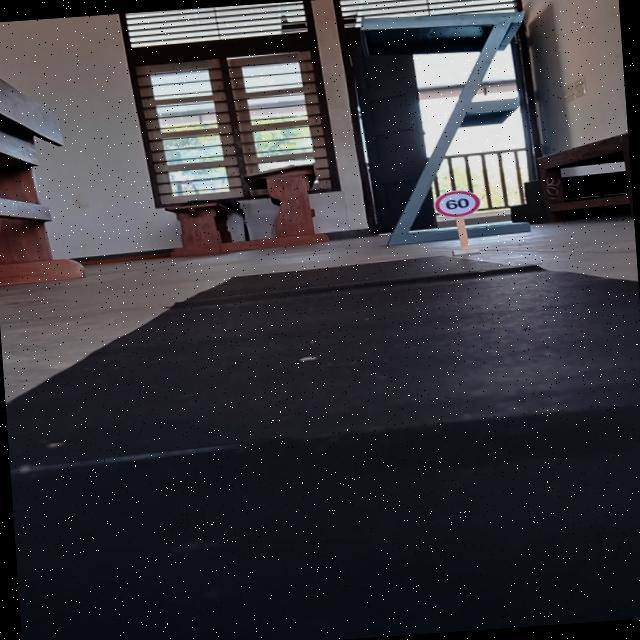Speed60: (430, 186, 482, 218)
